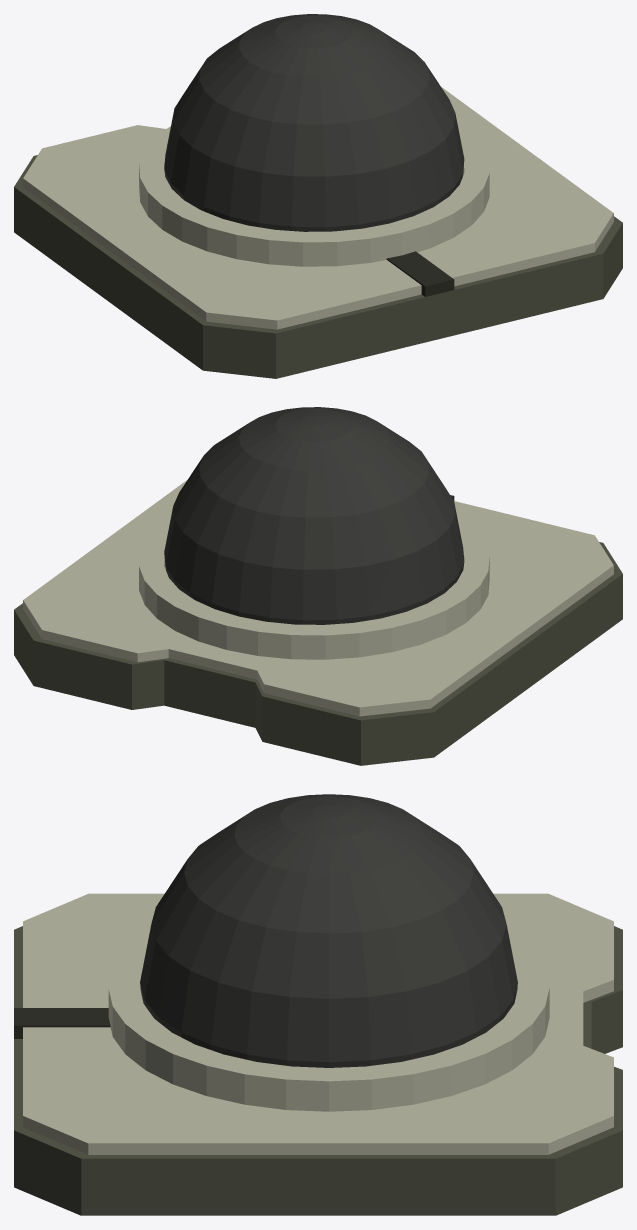
The model's file is vge_mech_overshield_off.obj.
3 views of the same model, one above another, from view 1: azimuth 30°, elevation 25°; view 2: azimuth 150°, elevation 25°; view 3: azimuth 270°, elevation 25° (orthographic). The views are drawn at different scales.
Parts seen in each view (by area): view 1: vge_mech_overshield_off_4, vge_mech_overshield_off_1, vge_mech_overshield_off_0, vge_mech_overshield_off_3, vge_mech_overshield_off_2; view 2: vge_mech_overshield_off_4, vge_mech_overshield_off_1, vge_mech_overshield_off_0, vge_mech_overshield_off_3; view 3: vge_mech_overshield_off_4, vge_mech_overshield_off_1, vge_mech_overshield_off_0, vge_mech_overshield_off_3, vge_mech_overshield_off_2.
Part boxes in pixels (x1,y1,x2,y2): vge_mech_overshield_off_4: (164, 14, 464, 231); vge_mech_overshield_off_1: (23, 87, 613, 329); vge_mech_overshield_off_0: (14, 155, 622, 378); vge_mech_overshield_off_3: (139, 126, 489, 266); vge_mech_overshield_off_2: (386, 251, 454, 296); vge_mech_overshield_off_4: (164, 407, 464, 624); vge_mech_overshield_off_1: (23, 479, 613, 716); vge_mech_overshield_off_0: (14, 542, 622, 765); vge_mech_overshield_off_3: (139, 519, 489, 659); vge_mech_overshield_off_4: (140, 794, 517, 1067); vge_mech_overshield_off_1: (23, 893, 613, 1154); vge_mech_overshield_off_0: (14, 926, 622, 1215); vge_mech_overshield_off_3: (108, 935, 549, 1111); vge_mech_overshield_off_2: (14, 1008, 110, 1038).
Size of the model in its own units: 2.9 by 1.45 by 2.9.
